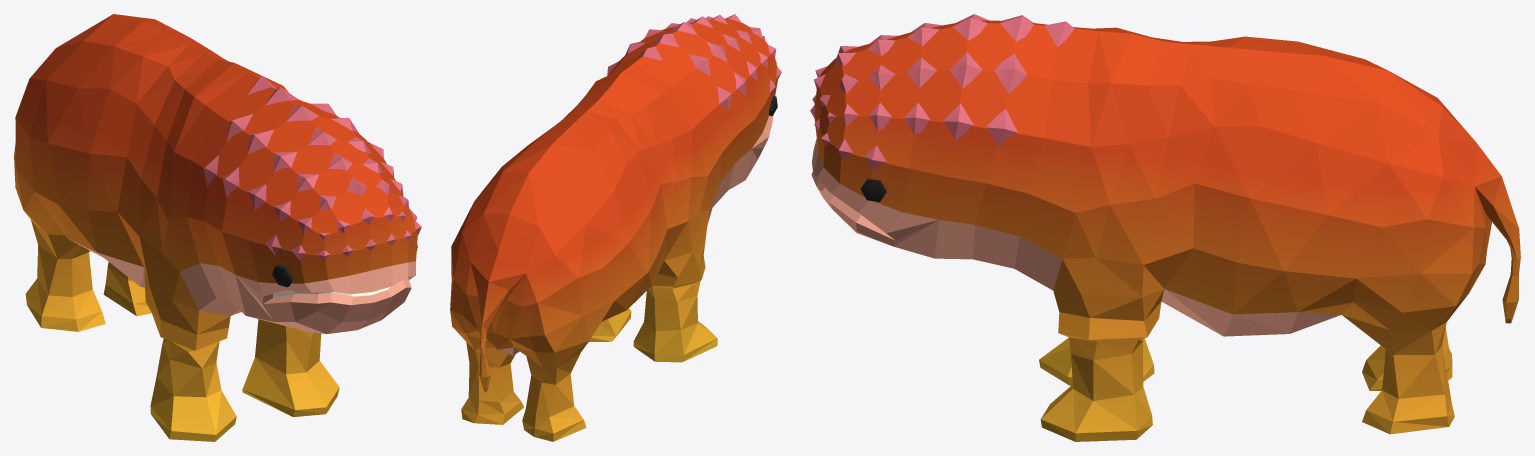
The model's file is animal_011.fbx.
3 views of the same model, side by side, from view 1: azimuth 30°, elevation 25°; view 2: azimuth 150°, elevation 25°; view 3: azimuth 270°, elevation 25° (orthographic). The views are drawn at different scales.
Parts seen in each view (by area): view 1: animal.011; view 2: animal.011; view 3: animal.011.
Boxes of the visible parts, x1,y1,x2,y2 form: animal.011: (14,14,421,441); animal.011: (450,14,781,441); animal.011: (810,14,1520,441).
Size of the model in its own units: 403 by 674 by 1133.
Materials: 1 (1 with a texture image).
